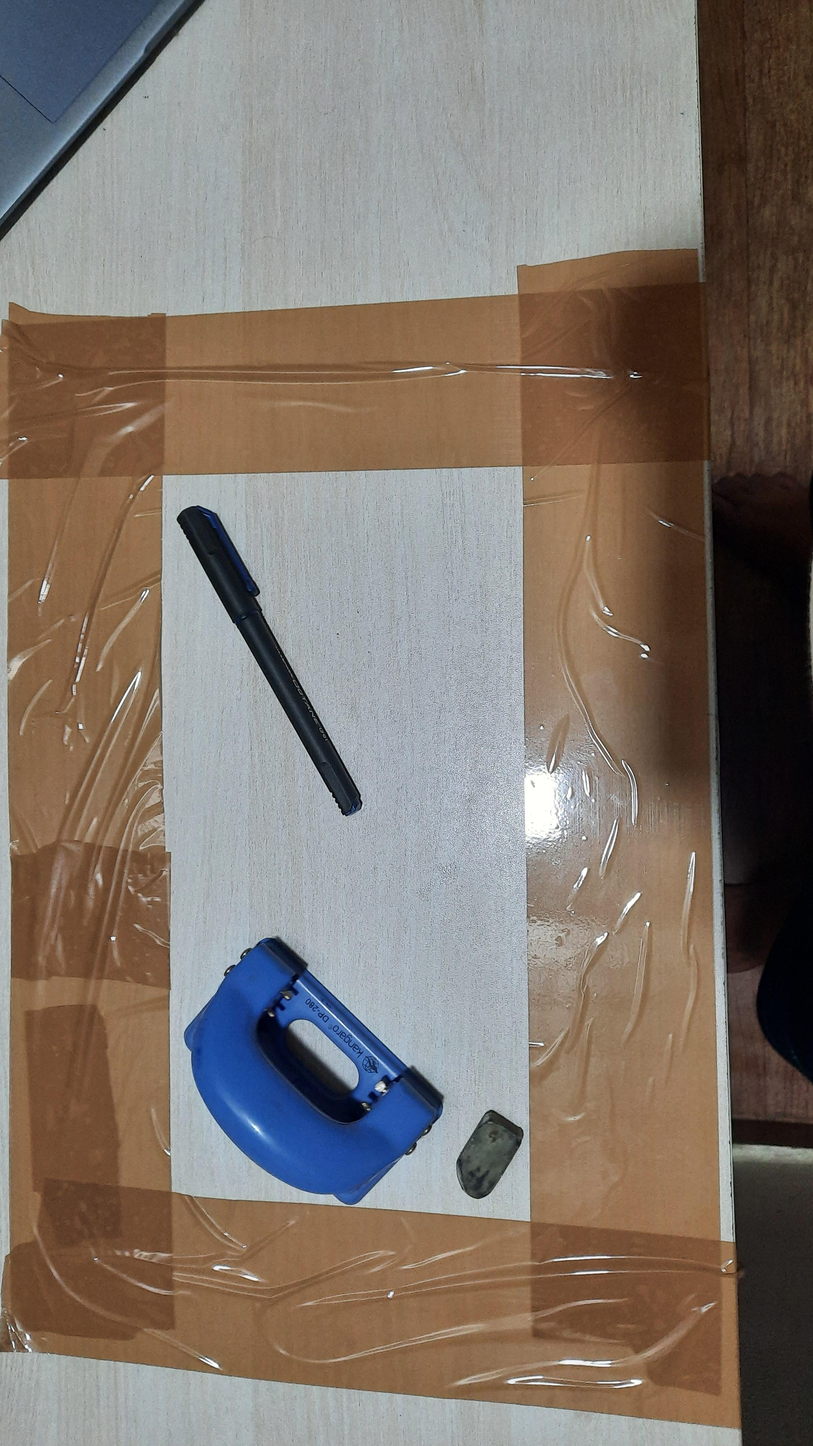Eraser: (457, 1109, 524, 1199)
Pen: (176, 505, 364, 817)
Punch: (184, 936, 444, 1206)
